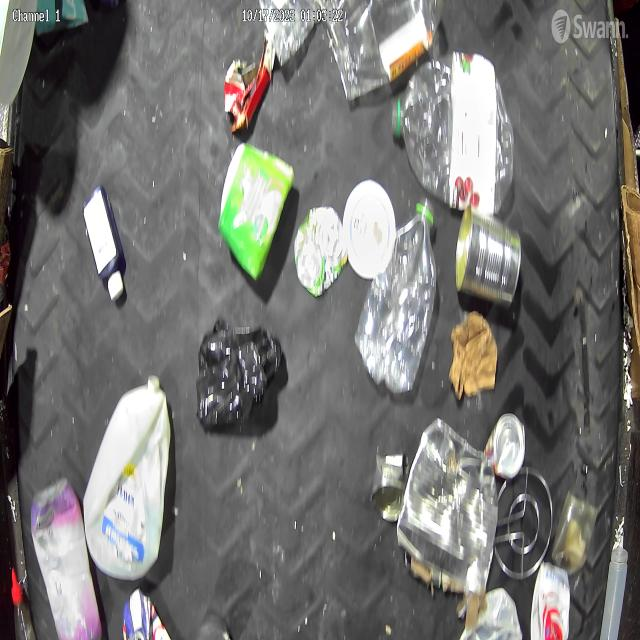can: (396, 420, 499, 594), (456, 206, 524, 310), (292, 205, 346, 298), (375, 448, 407, 522)
milk_jug: (82, 373, 174, 583)
non_white_jug: (32, 475, 102, 636), (197, 319, 280, 428)
plastic_bottle: (390, 51, 515, 214), (354, 197, 440, 392)
